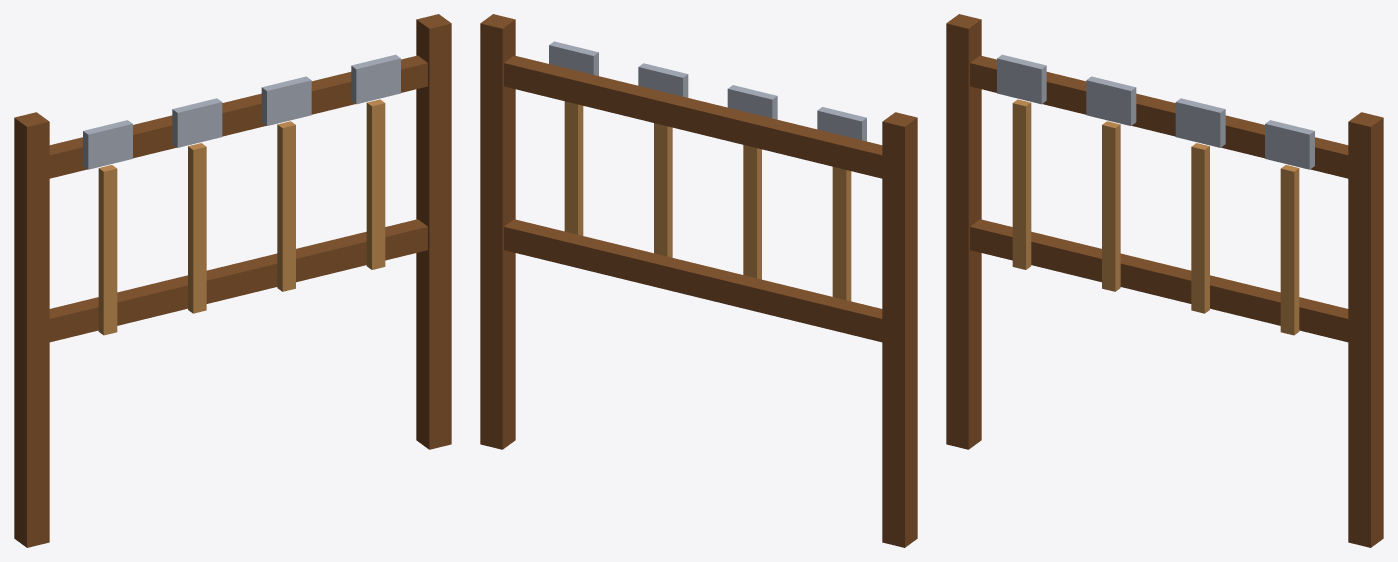
Rendered from tool_rack.glb.
3 renders of one model, left to right at view 1: azimuth 30°, elevation 25°; view 2: azimuth 150°, elevation 25°; view 3: azimuth 330°, elevation 25°, orthographic.
Visible parts, largest first — view 1: tool_rack; view 2: tool_rack; view 3: tool_rack.
Boxes of the visible parts, x1,y1,x2,y2 form: tool_rack: [14, 14, 451, 547]; tool_rack: [480, 14, 917, 547]; tool_rack: [946, 14, 1383, 547].
Bounding box in the file's own units: 1.9 × 1.8 × 0.14.
